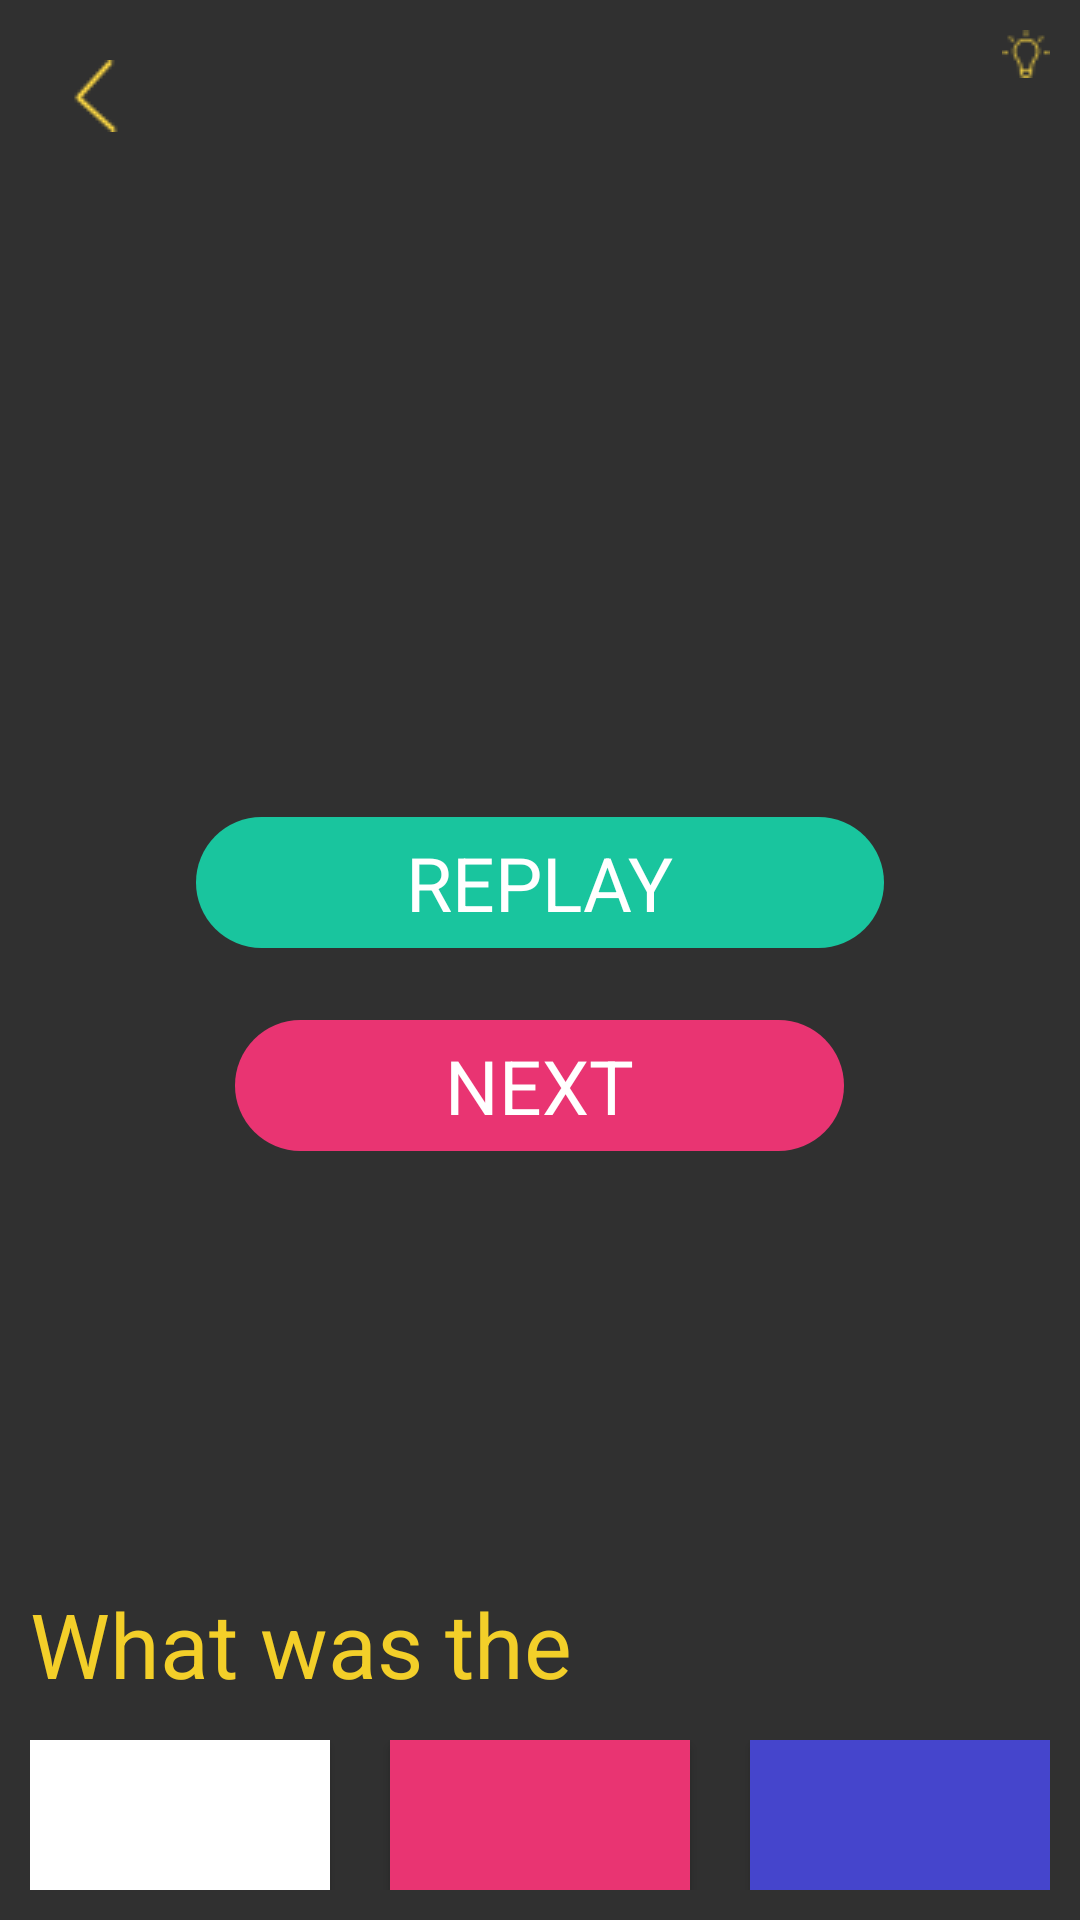

Screen size 1080px x 1920px. Icon name, then its box in pixels as (x1, y1, x2, y2):
arrow: (74, 60, 117, 132)
lightbulb: (1002, 30, 1050, 78)
